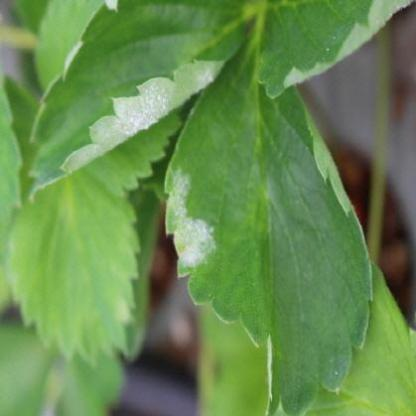Strawberry_Powdery_Mildew_Leaf: (162, 21, 374, 415), (26, 0, 250, 205), (256, 0, 414, 99)
